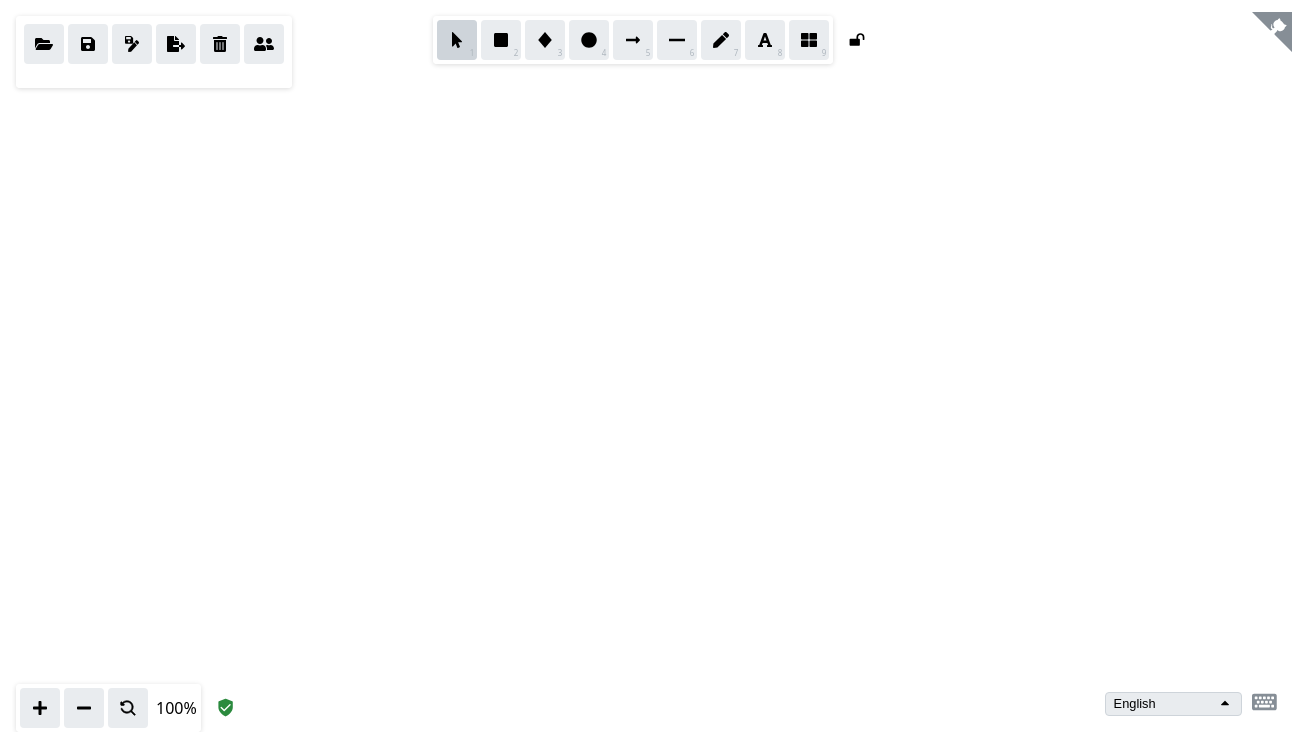
Test: regression tests › rerenders UI on language change
The width and height of the screenshot is (1304, 732).
Step 1. Click the radio button labelled "2" → (501, 40), box left=481, top=20, right=521, bottom=60
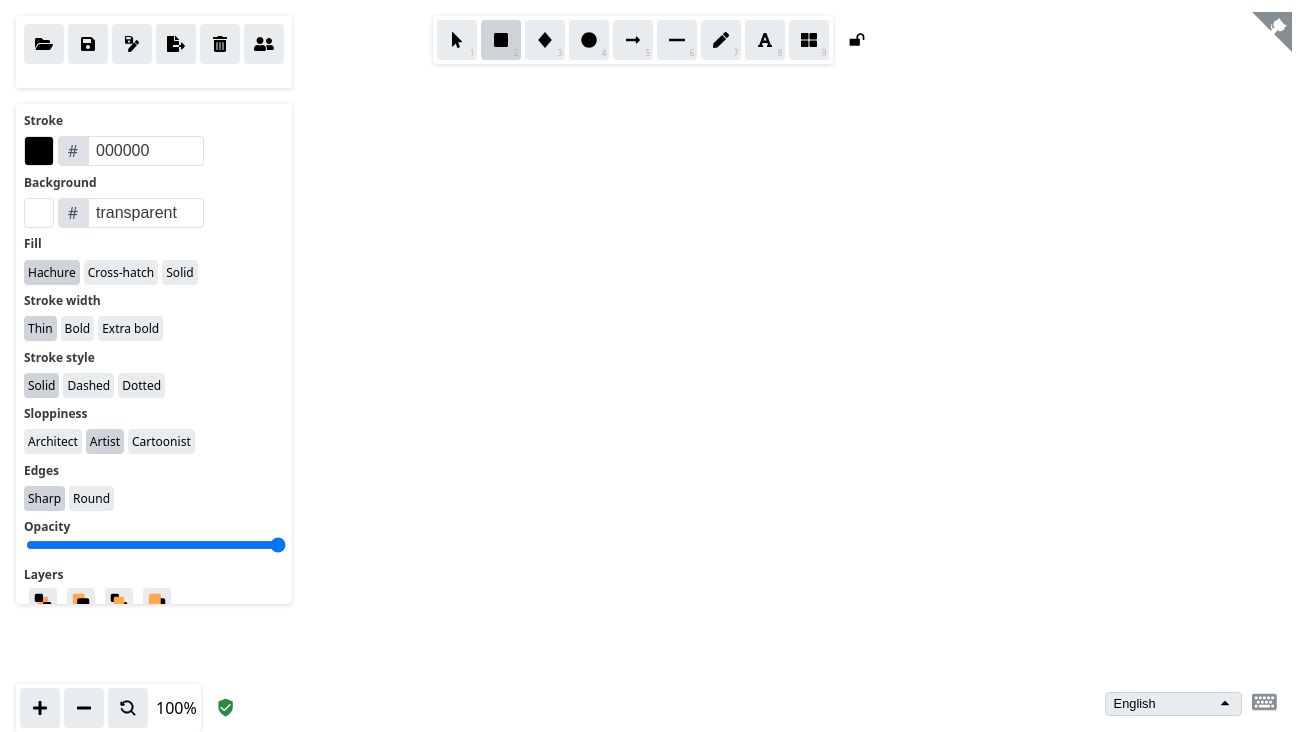
Now the radio button "Hachure" is shown, box left=24, top=260, right=80, bottom=285
Step 2. Select "Deutsch" in the dropdown with class "dropdown-select__language" → (1173, 704), box left=1105, top=692, right=1242, bottom=716
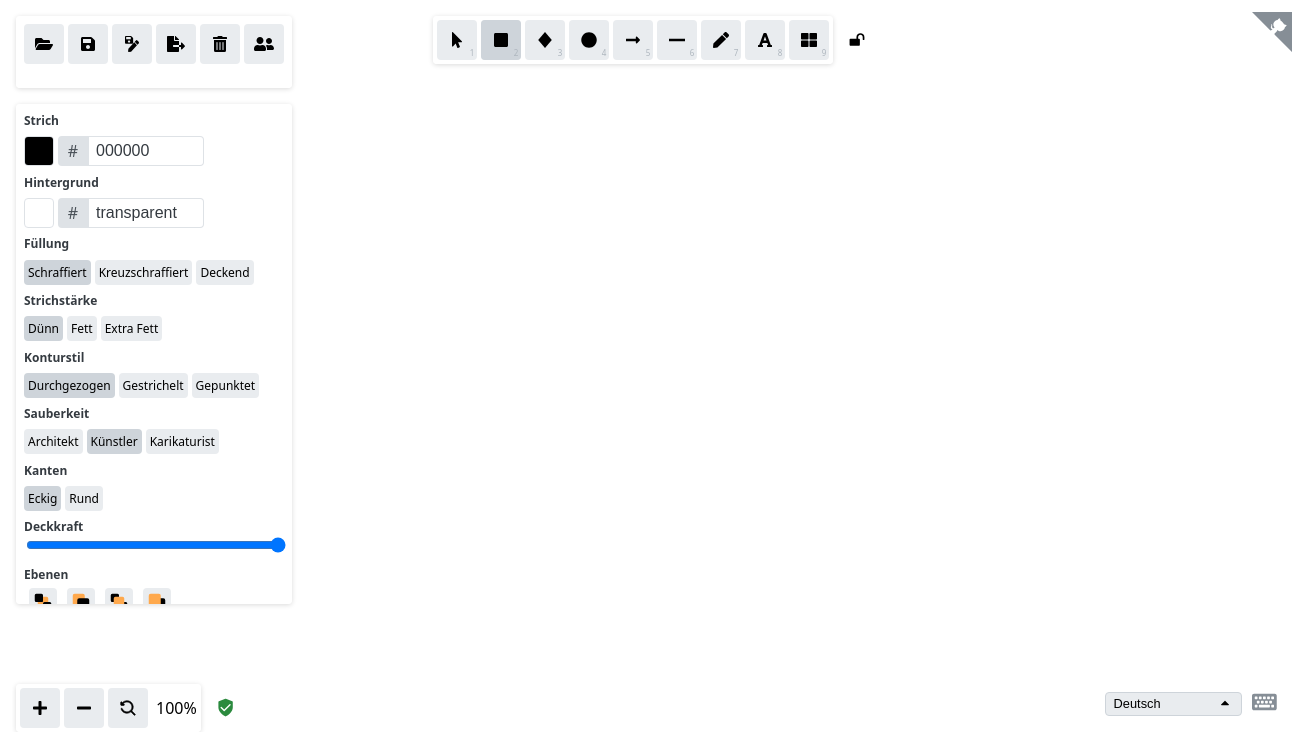
Now the radio button "Hachure" is gone
Step 3. Select "English" in the dropdown with class "dropdown-select__language" → (1173, 704), box left=1105, top=692, right=1242, bottom=716
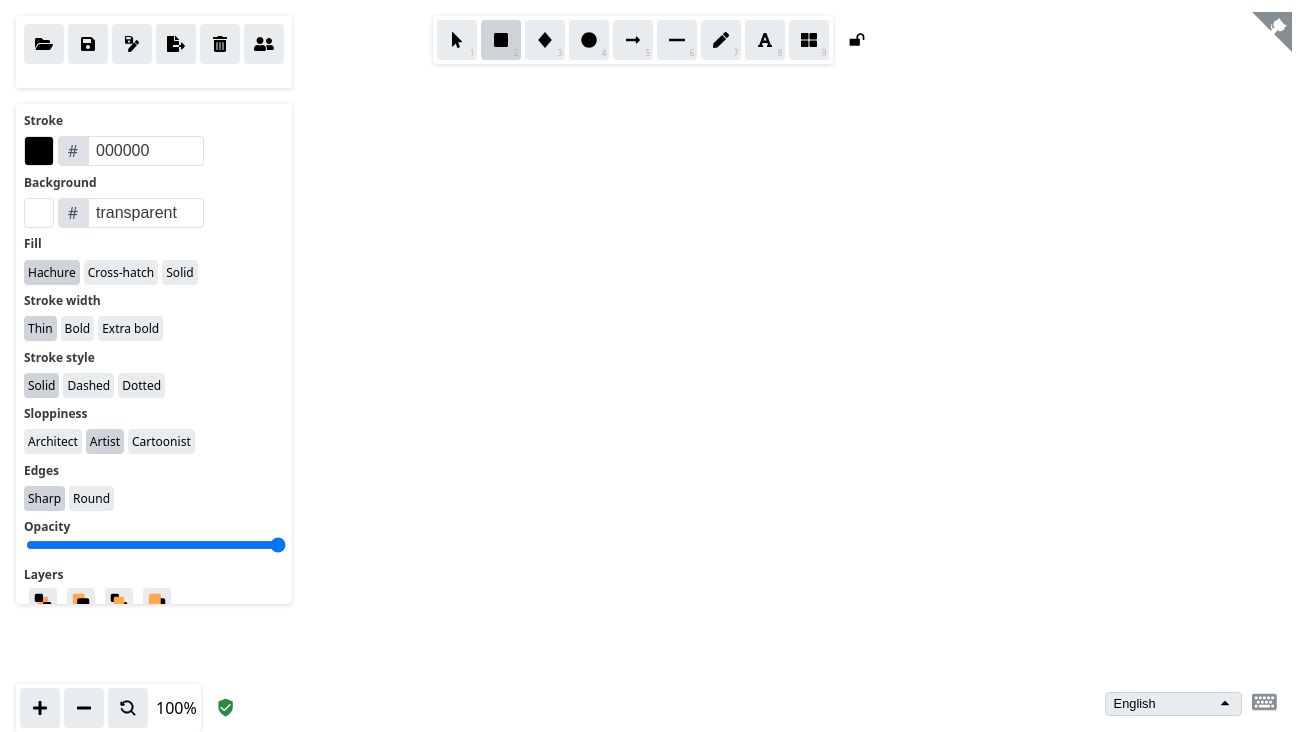
Now the radio button "Hachure" is shown, box left=24, top=260, right=80, bottom=285
